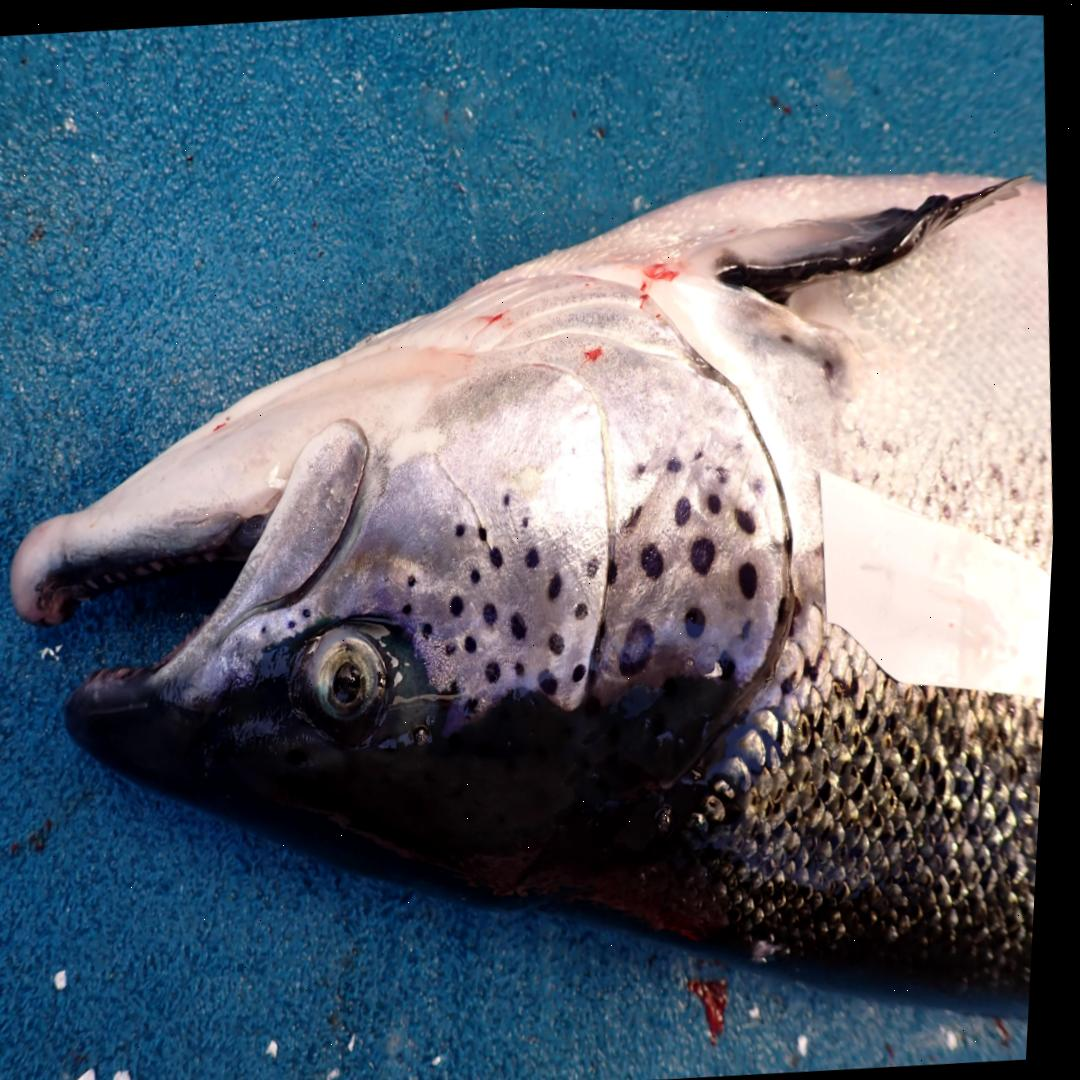spot: (626, 616, 661, 673), (697, 537, 721, 572), (744, 560, 764, 599), (647, 543, 669, 578), (693, 605, 713, 637), (626, 503, 648, 528), (545, 668, 565, 695), (725, 649, 742, 679), (742, 508, 762, 531), (681, 494, 696, 524), (517, 612, 533, 638), (554, 572, 569, 598), (785, 593, 797, 624), (555, 630, 571, 653), (612, 554, 624, 583), (455, 595, 471, 616), (492, 660, 508, 681), (531, 547, 546, 567), (713, 492, 727, 513), (495, 546, 509, 567), (474, 696, 487, 717), (638, 459, 653, 477), (491, 602, 504, 622), (580, 661, 593, 681), (756, 477, 770, 494), (581, 599, 594, 617), (428, 620, 441, 638), (452, 636, 465, 654), (748, 616, 759, 637), (789, 528, 798, 553), (592, 558, 604, 576), (521, 658, 532, 676), (673, 457, 686, 472), (722, 464, 734, 480), (304, 606, 318, 618), (476, 568, 488, 582), (472, 635, 483, 650), (456, 680, 467, 694), (462, 522, 471, 537), (699, 444, 708, 459), (407, 601, 418, 613), (484, 524, 493, 538), (413, 574, 422, 586), (508, 491, 515, 505), (265, 624, 274, 633), (527, 516, 534, 526), (295, 619, 302, 627), (740, 440, 746, 449)
